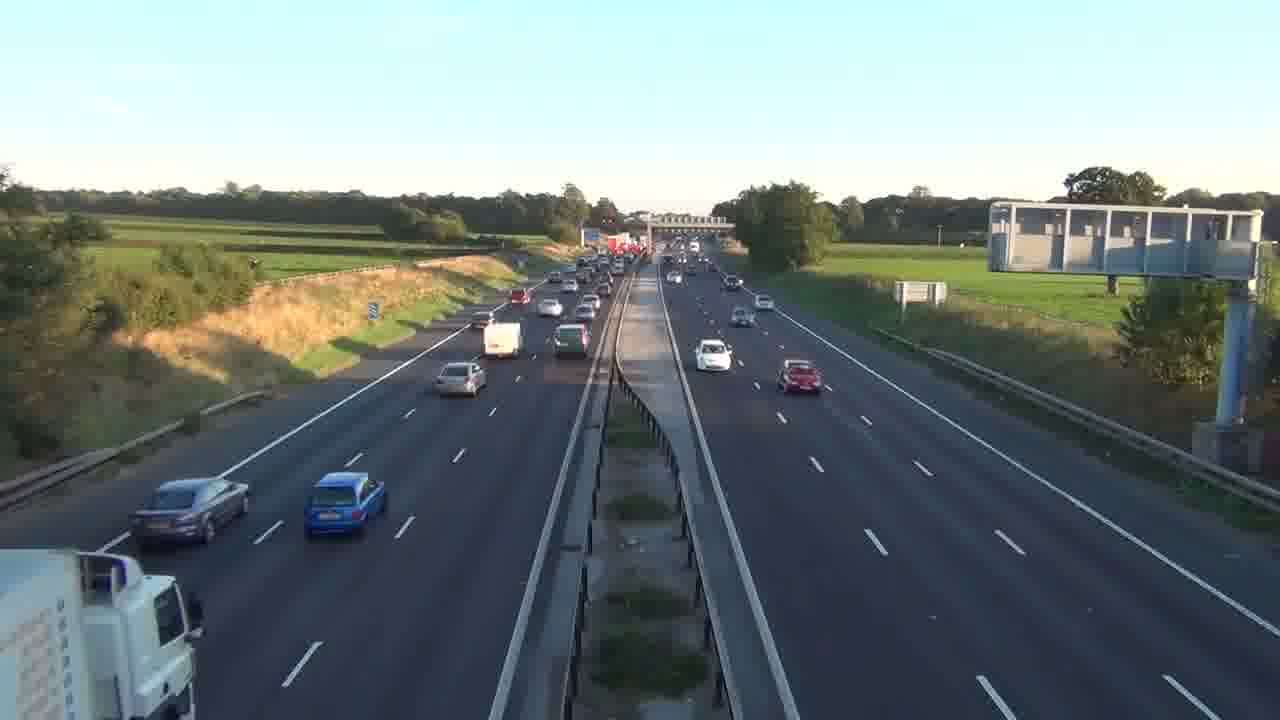car: (304, 470, 387, 538), (433, 360, 487, 398), (781, 359, 821, 394)
truck: (0, 547, 203, 717), (482, 320, 522, 359)
